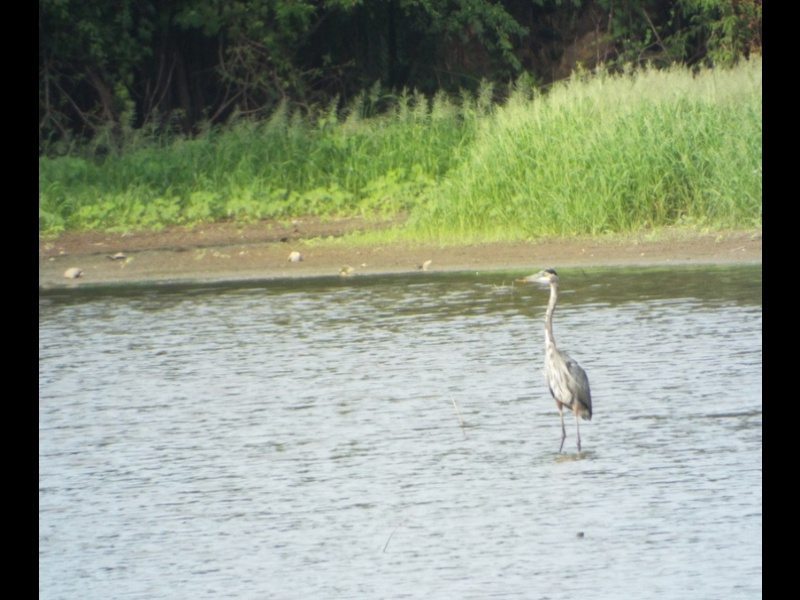heron: (512, 265, 599, 458)
